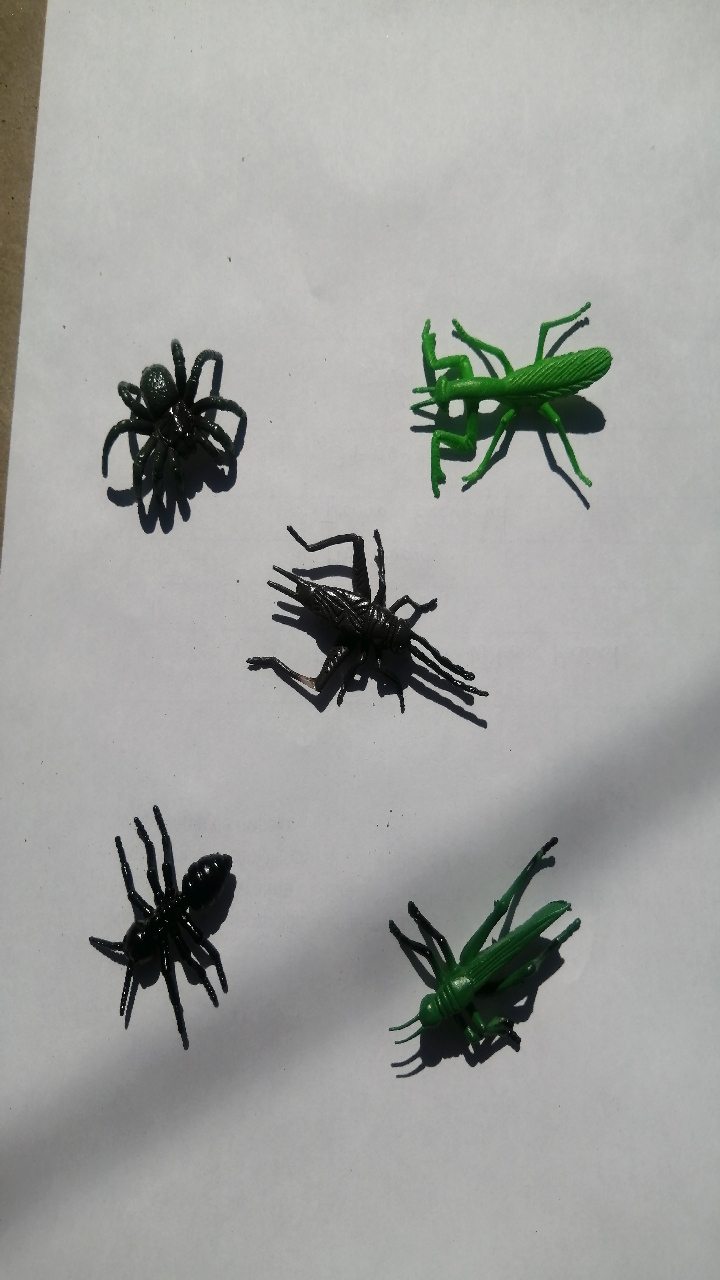intruso: (361, 809, 592, 1083), (60, 777, 266, 1059), (238, 511, 495, 734), (384, 263, 623, 499), (63, 295, 268, 546)
